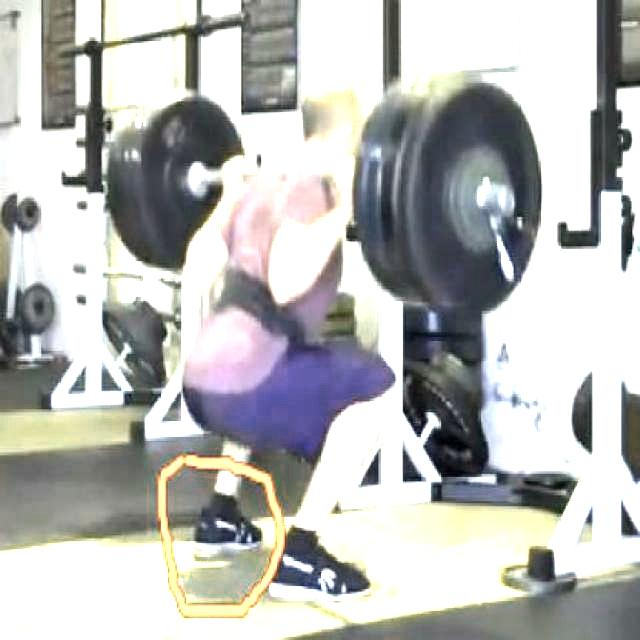barbell: (345, 60, 555, 322)
